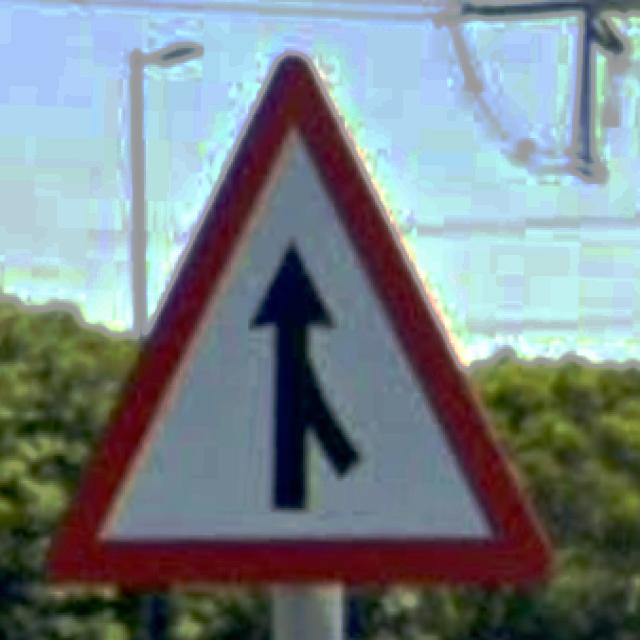rightmerge: (49, 54, 555, 592)
